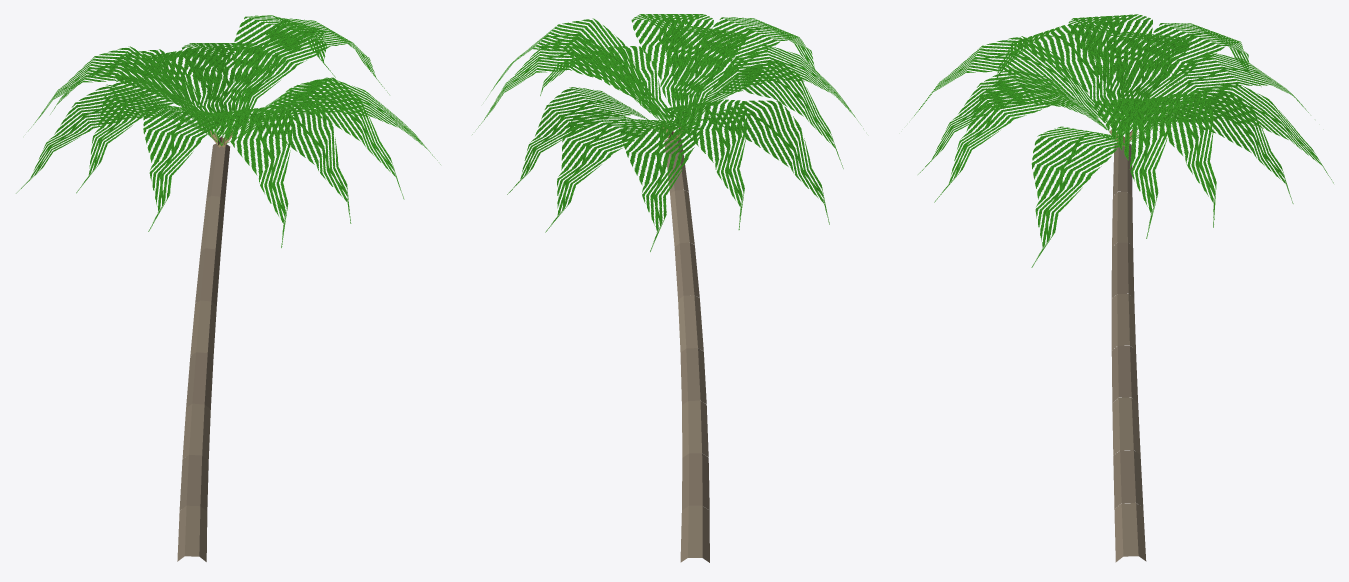
File: palmera.glb
3 views of the same model, side by side, from view 1: azimuth 30°, elevation 25°; view 2: azimuth 150°, elevation 25°; view 3: azimuth 270°, elevation 25° (orthographic). The views are drawn at different scales.
Visible parts, largest first — view 1: palmera2; view 2: palmera2; view 3: palmera2.
Part boxes in pixels (left/top/right/bottom): palmera2: left=16, top=15, right=440, bottom=561; palmera2: left=472, top=14, right=863, bottom=562; palmera2: left=914, top=14, right=1333, bottom=562.
Size of the model in its own units: 7.72 by 10.19 by 7.75.
Materials: 2 (1 with a texture image).
